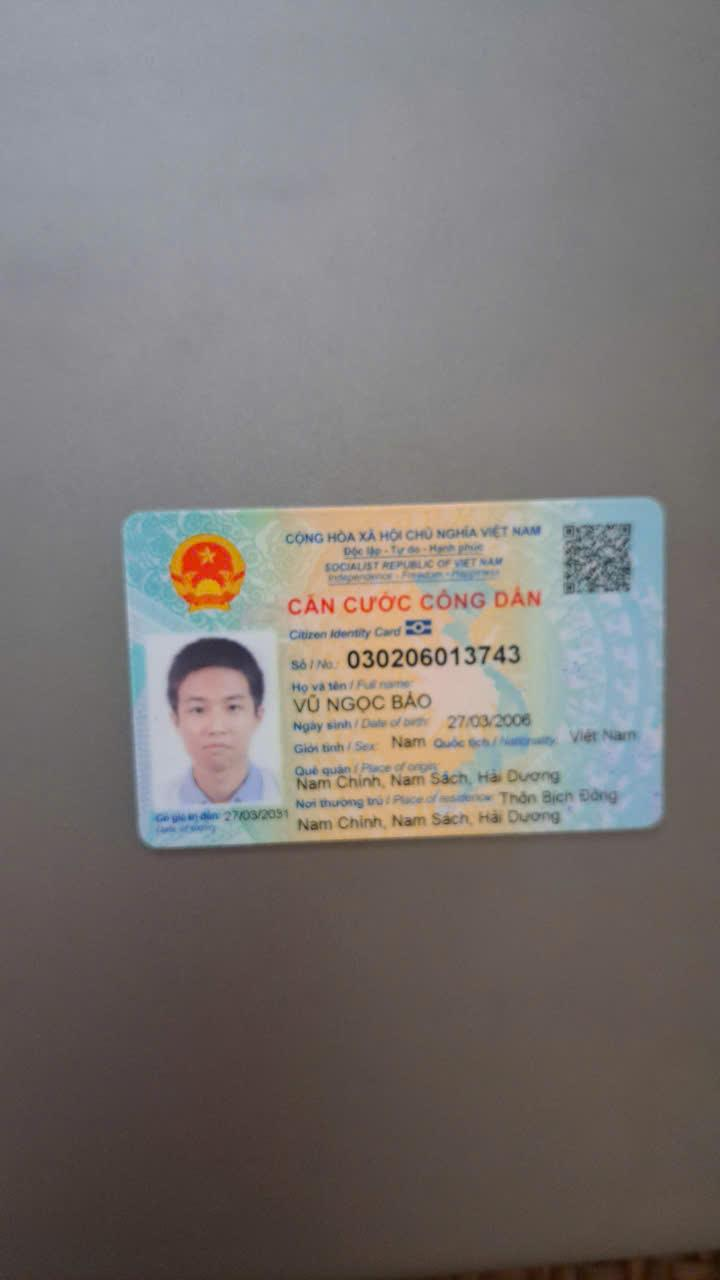cccd: (114, 493, 672, 855)
